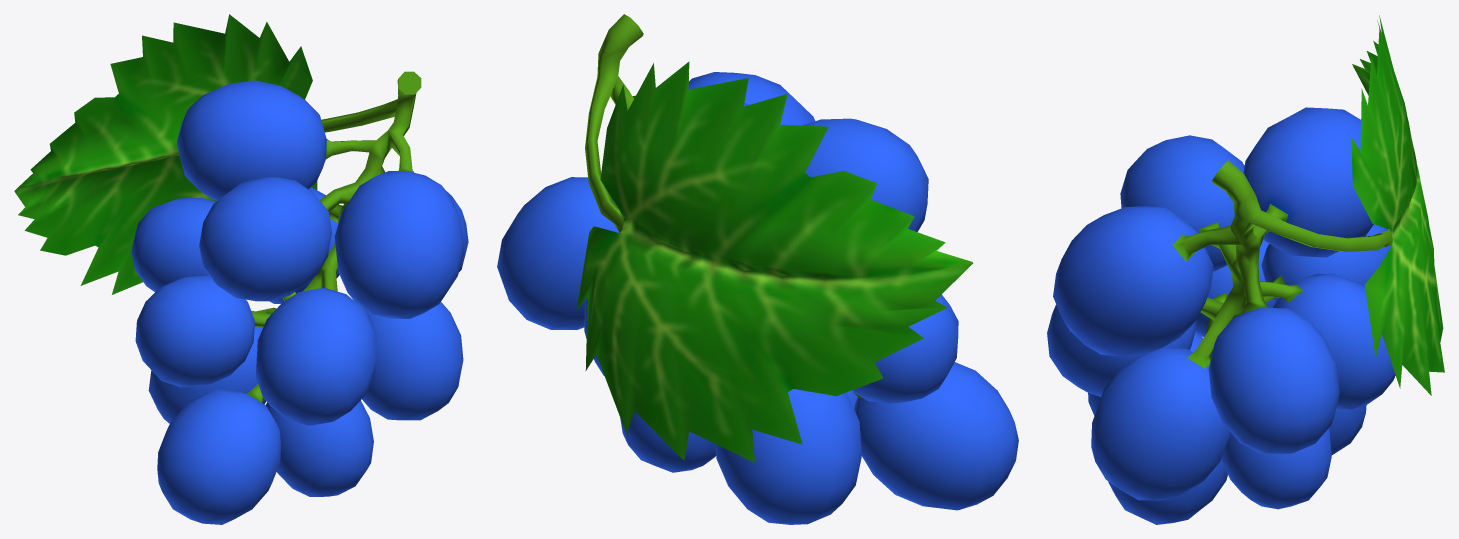
File: grape_final_Draco.glb
3 renders of one model, left to right at view 1: azimuth 30°, elevation 25°; view 2: azimuth 150°, elevation 25°; view 3: azimuth 270°, elevation 25°, orthographic. The views are drawn at different scales.
Visible parts, largest first — view 1: Grapes5; view 2: Grapes5; view 3: Grapes5.
Boxes of the visible parts, x1,y1,x2,y2 form: Grapes5: [14, 14, 468, 524]; Grapes5: [497, 14, 1018, 524]; Grapes5: [1047, 15, 1444, 524].
Bounding box in the file's own units: 1.05 × 1 × 0.7761.
Materials: 1 (1 with a texture image).
